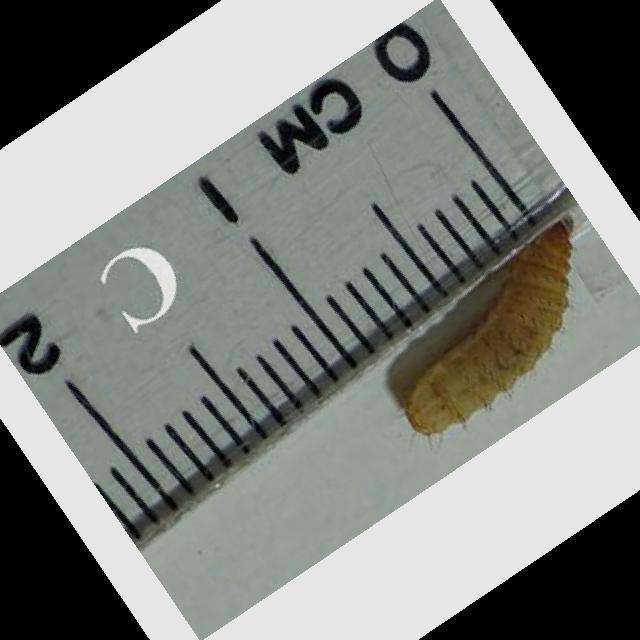Maggot: (390, 207, 579, 436)
